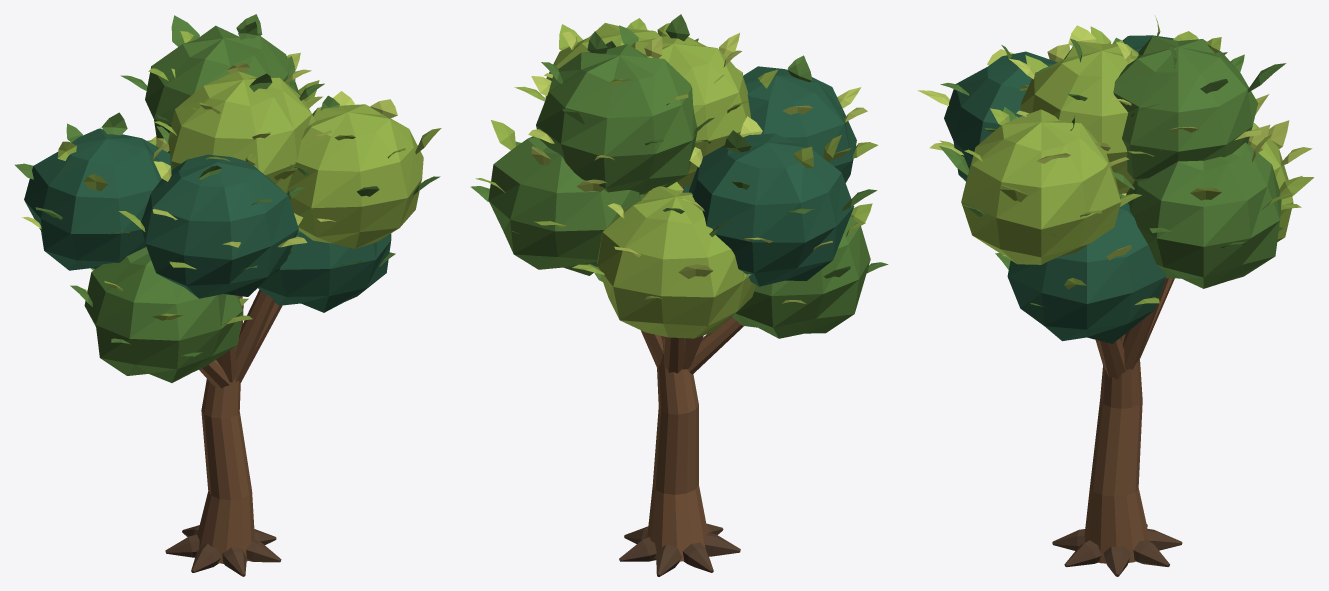
The model's file is Broadleaf.glb.
The picture shows the model from 3 angles, left to right: view 1: azimuth 30°, elevation 25°; view 2: azimuth 150°, elevation 25°; view 3: azimuth 270°, elevation 25°; orthographic projection. The views are drawn at different scales.
Parts seen in each view (by area): view 1: Broadleaf; view 2: Broadleaf; view 3: Broadleaf.
Boxes of the visible parts, x1,y1,x2,y2 form: Broadleaf: (15,14,441,576); Broadleaf: (470,14,888,576); Broadleaf: (917,16,1313,576).
Size of the model in its own units: 4.7 by 6.4 by 4.3.
